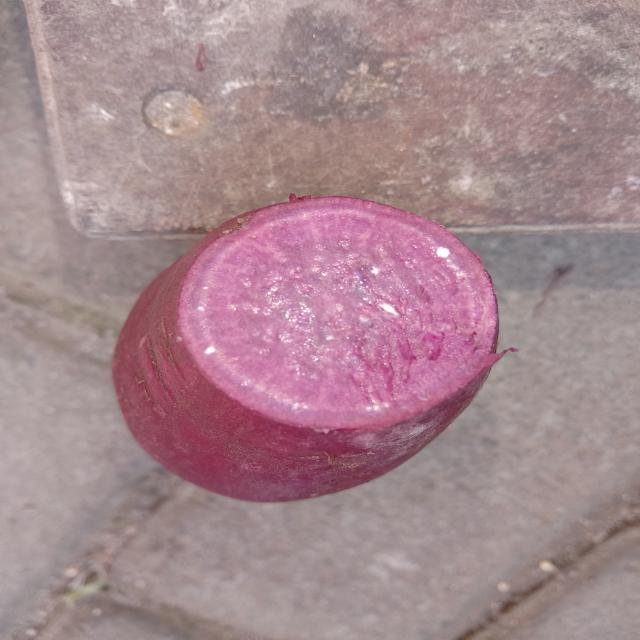Healthy Sweet Potato: (178, 198, 500, 430)
